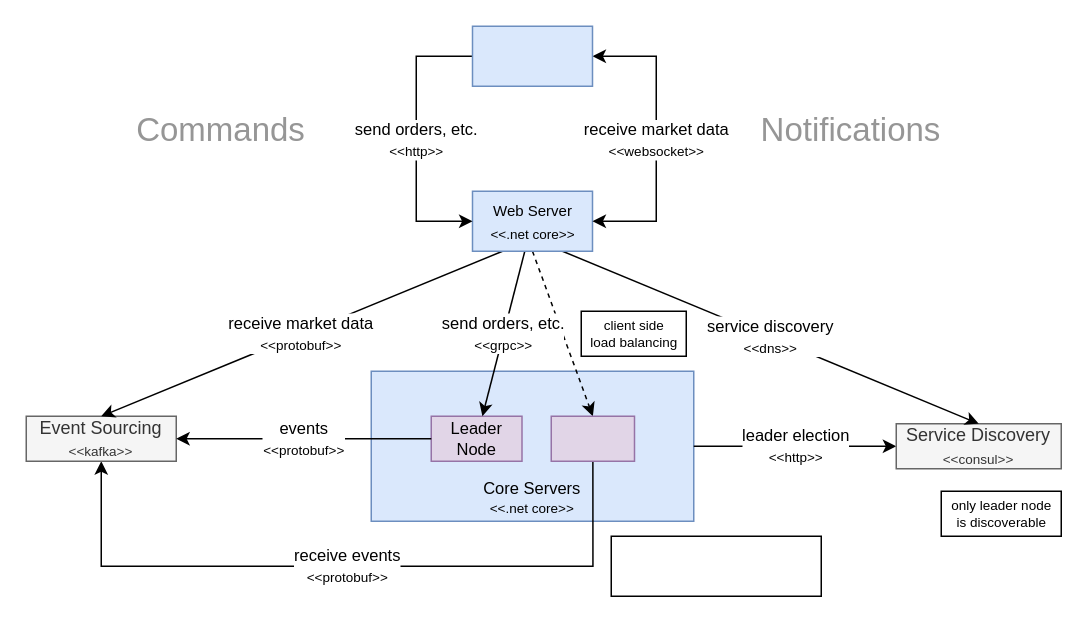
Image size: 1088x623. Some labels were removed from this diagram. Each missing label, with the centre of its shape:
Follower Node: (x=592, y=438)
if leader node fails, follower node becomes leader MTTR ~ seconds: (x=715, y=565)
Web Client <<angular>>: (x=531, y=55)
